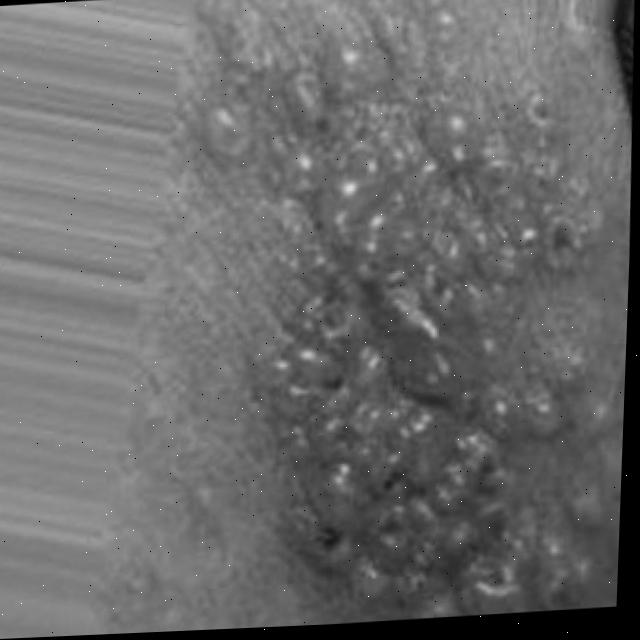Shingles: (213, 8, 639, 629)
